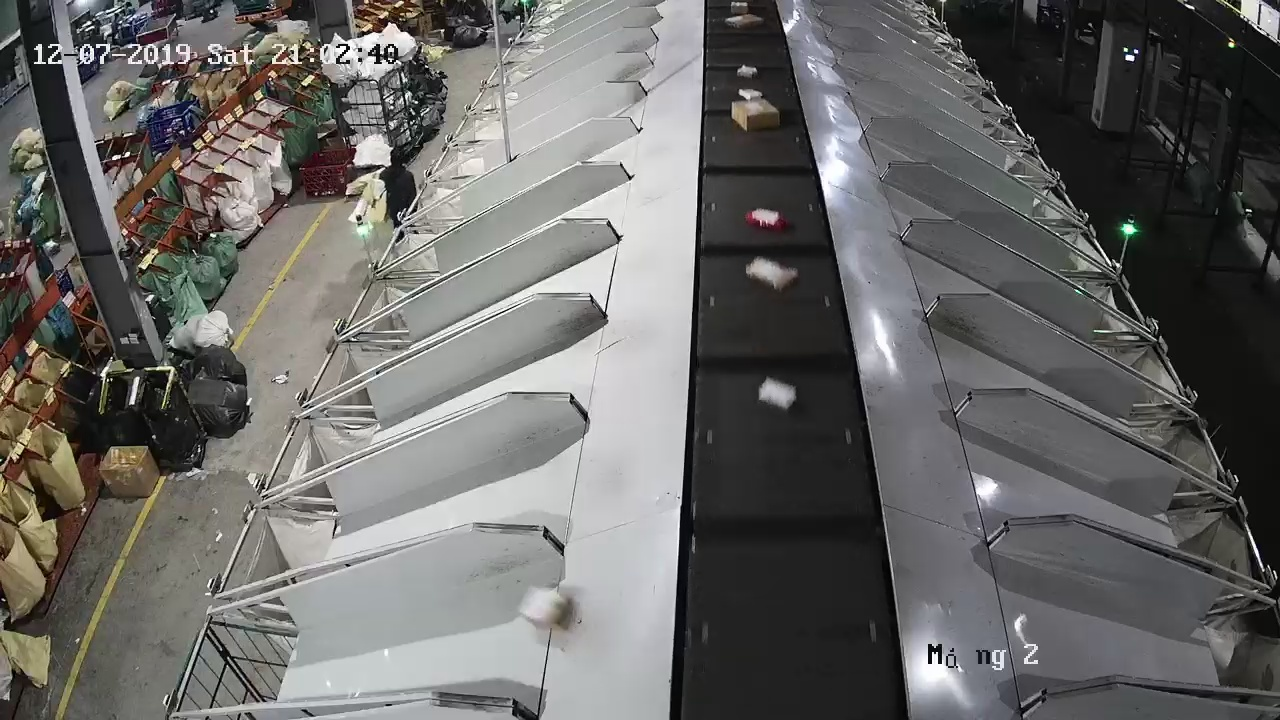parcel: (516, 584, 574, 632)
